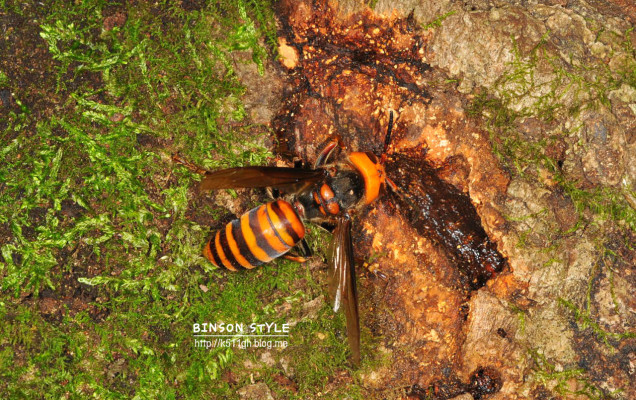asian_giant_hornet: (199, 133, 404, 274)
